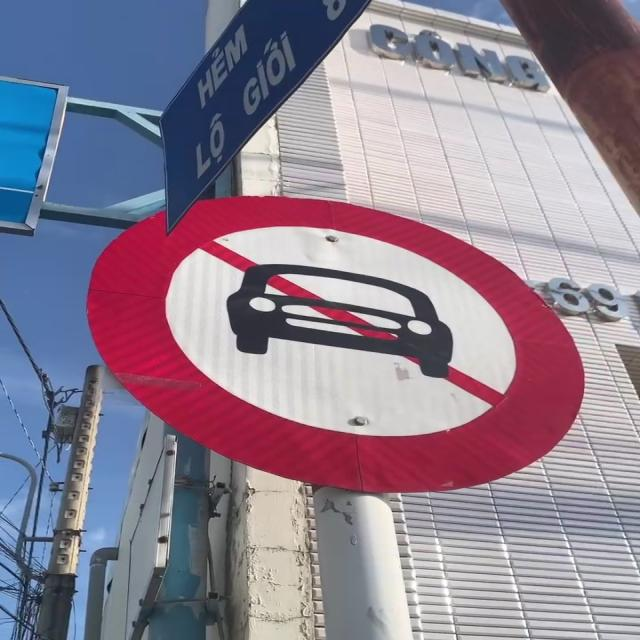Cam_O_To: (87, 188, 584, 498)
